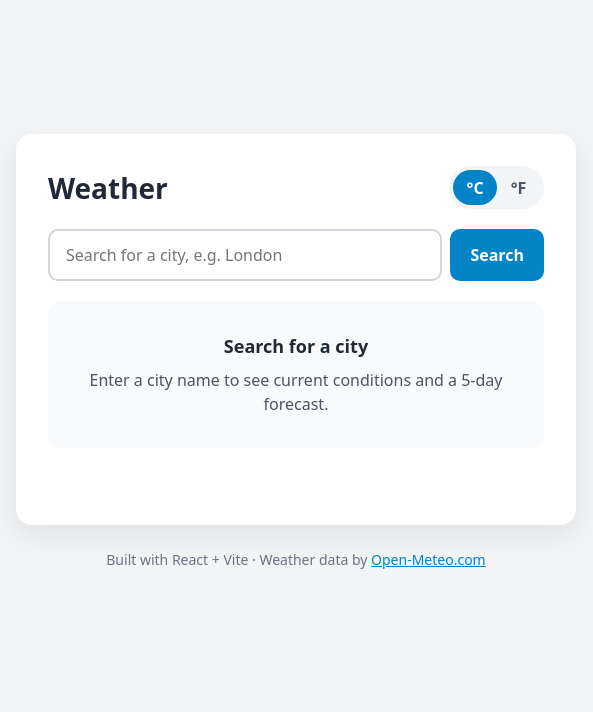
App › requests Fahrenheit data when the unit is switched
In the search field named "City name": (245, 255) left=48, top=229, right=442, bottom=281, type "Paris"
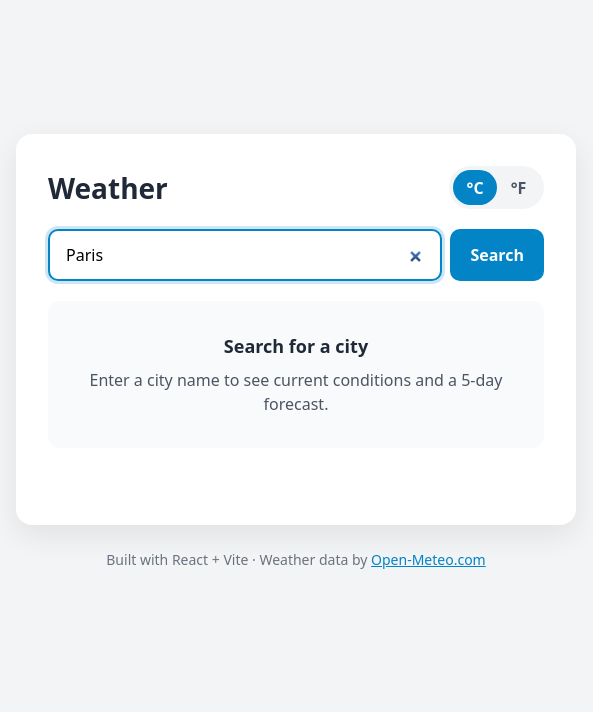
Click the button "Search": (497, 255) left=450, top=229, right=544, bottom=281
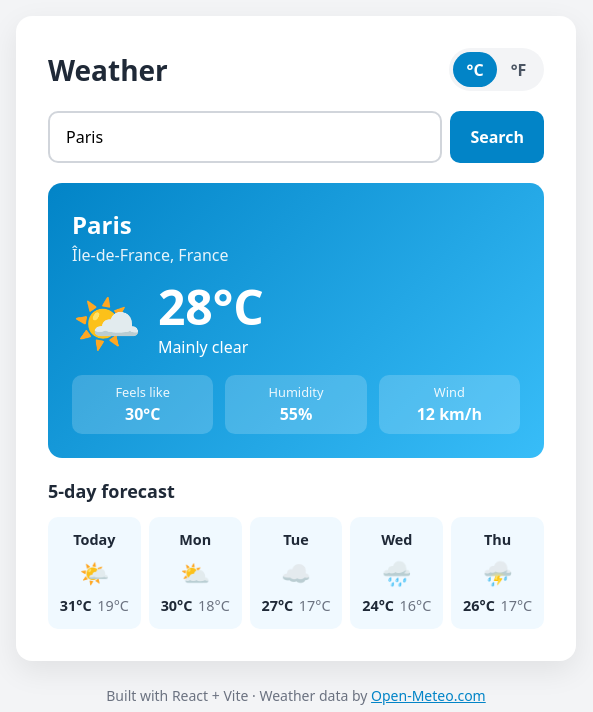
Now the heading "Paris" is shown, box left=72, top=208, right=132, bottom=241
Click the button "°F": (519, 70) left=497, top=52, right=540, bottom=87
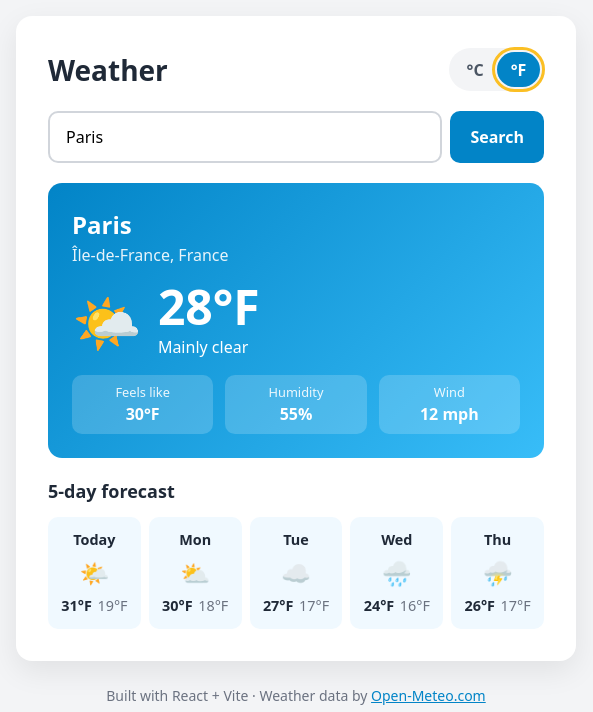
Now the text "28°F" is shown, box left=158, top=283, right=260, bottom=331
